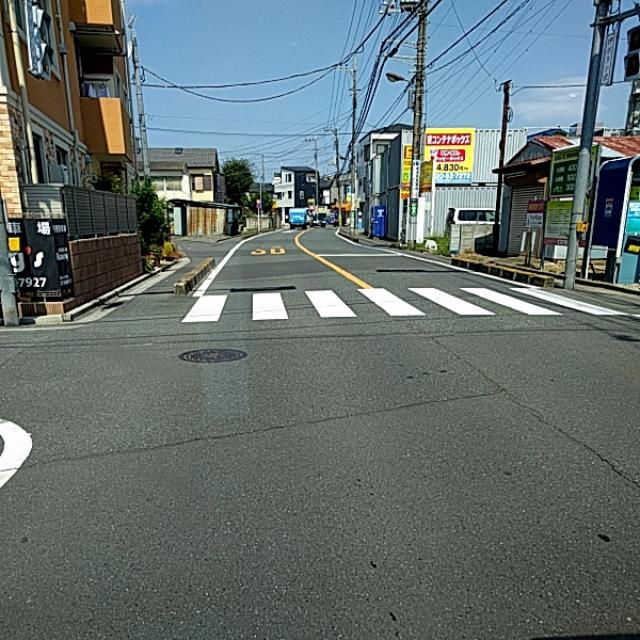pothole: (338, 468, 426, 614)
